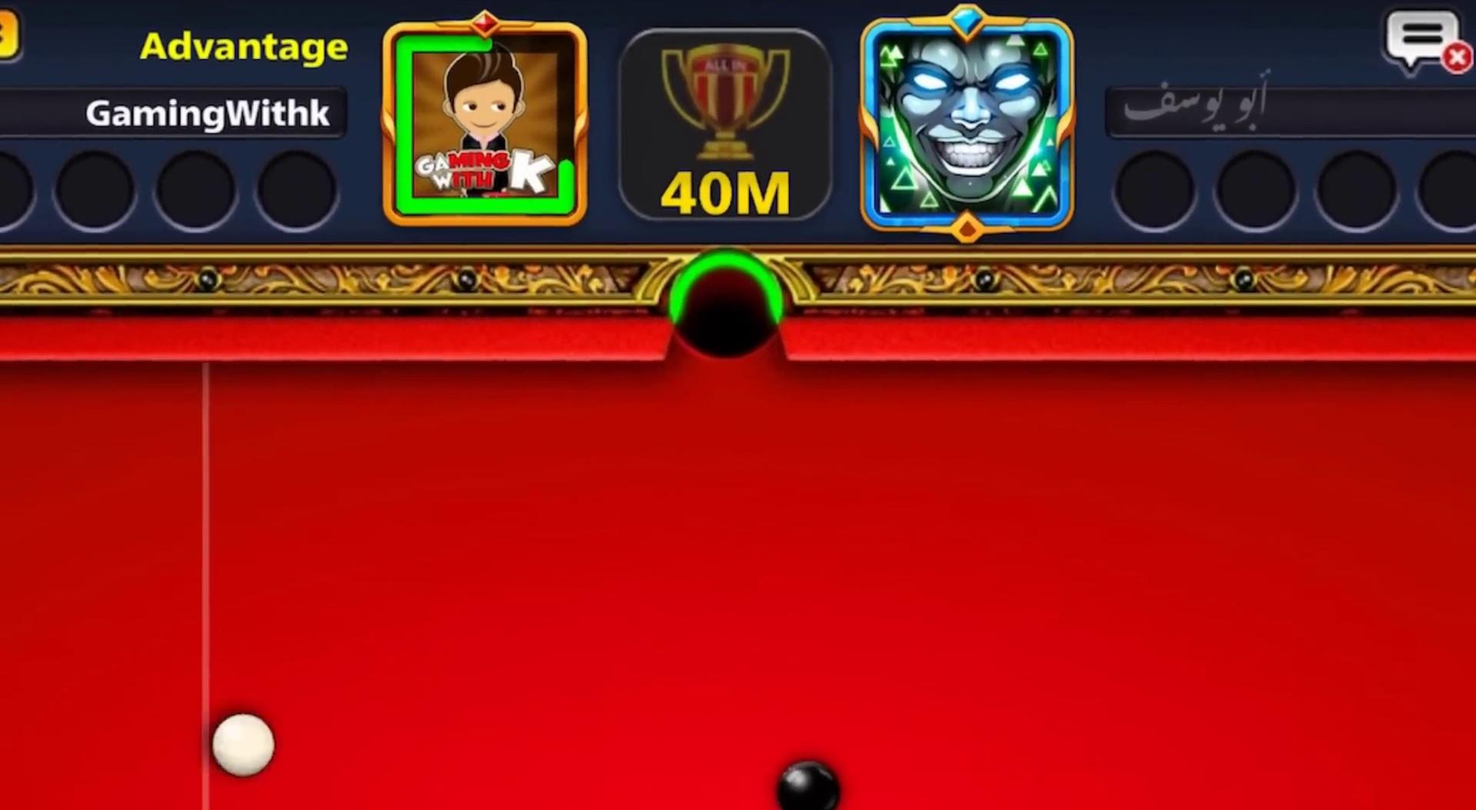Ball: (763, 749, 853, 809)
Hole: (666, 247, 786, 369)
White: (202, 706, 283, 785)
